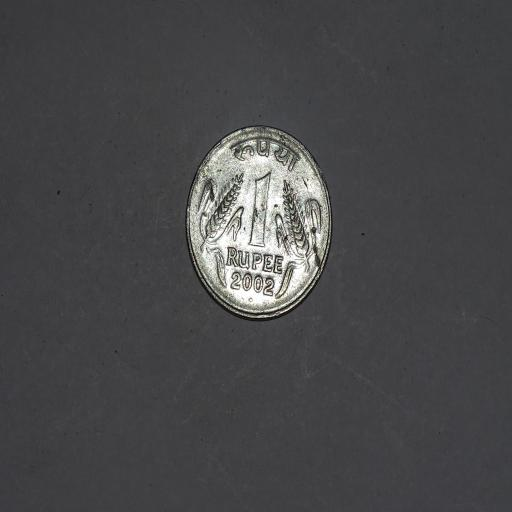rupee1: (180, 125, 337, 329)
